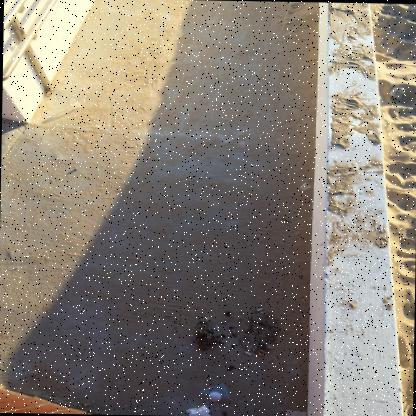Cigarette: (258, 352, 264, 356), (244, 351, 250, 355), (254, 308, 262, 311), (255, 324, 260, 328), (301, 298, 305, 303), (84, 404, 91, 406), (259, 350, 265, 352), (257, 354, 262, 356), (310, 215, 312, 220), (267, 347, 273, 348), (260, 311, 263, 313)
Disposable plastic cup: (299, 182, 310, 190), (71, 101, 82, 108)
Normal paper: (185, 405, 211, 416)
Plastic film: (198, 383, 241, 416)
